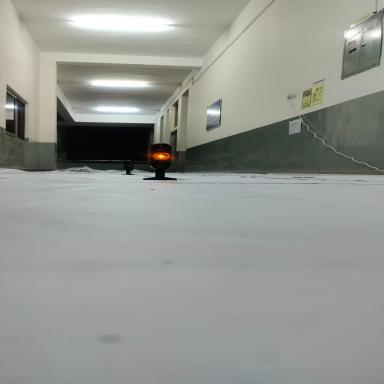traffic red: (148, 131, 190, 189)
